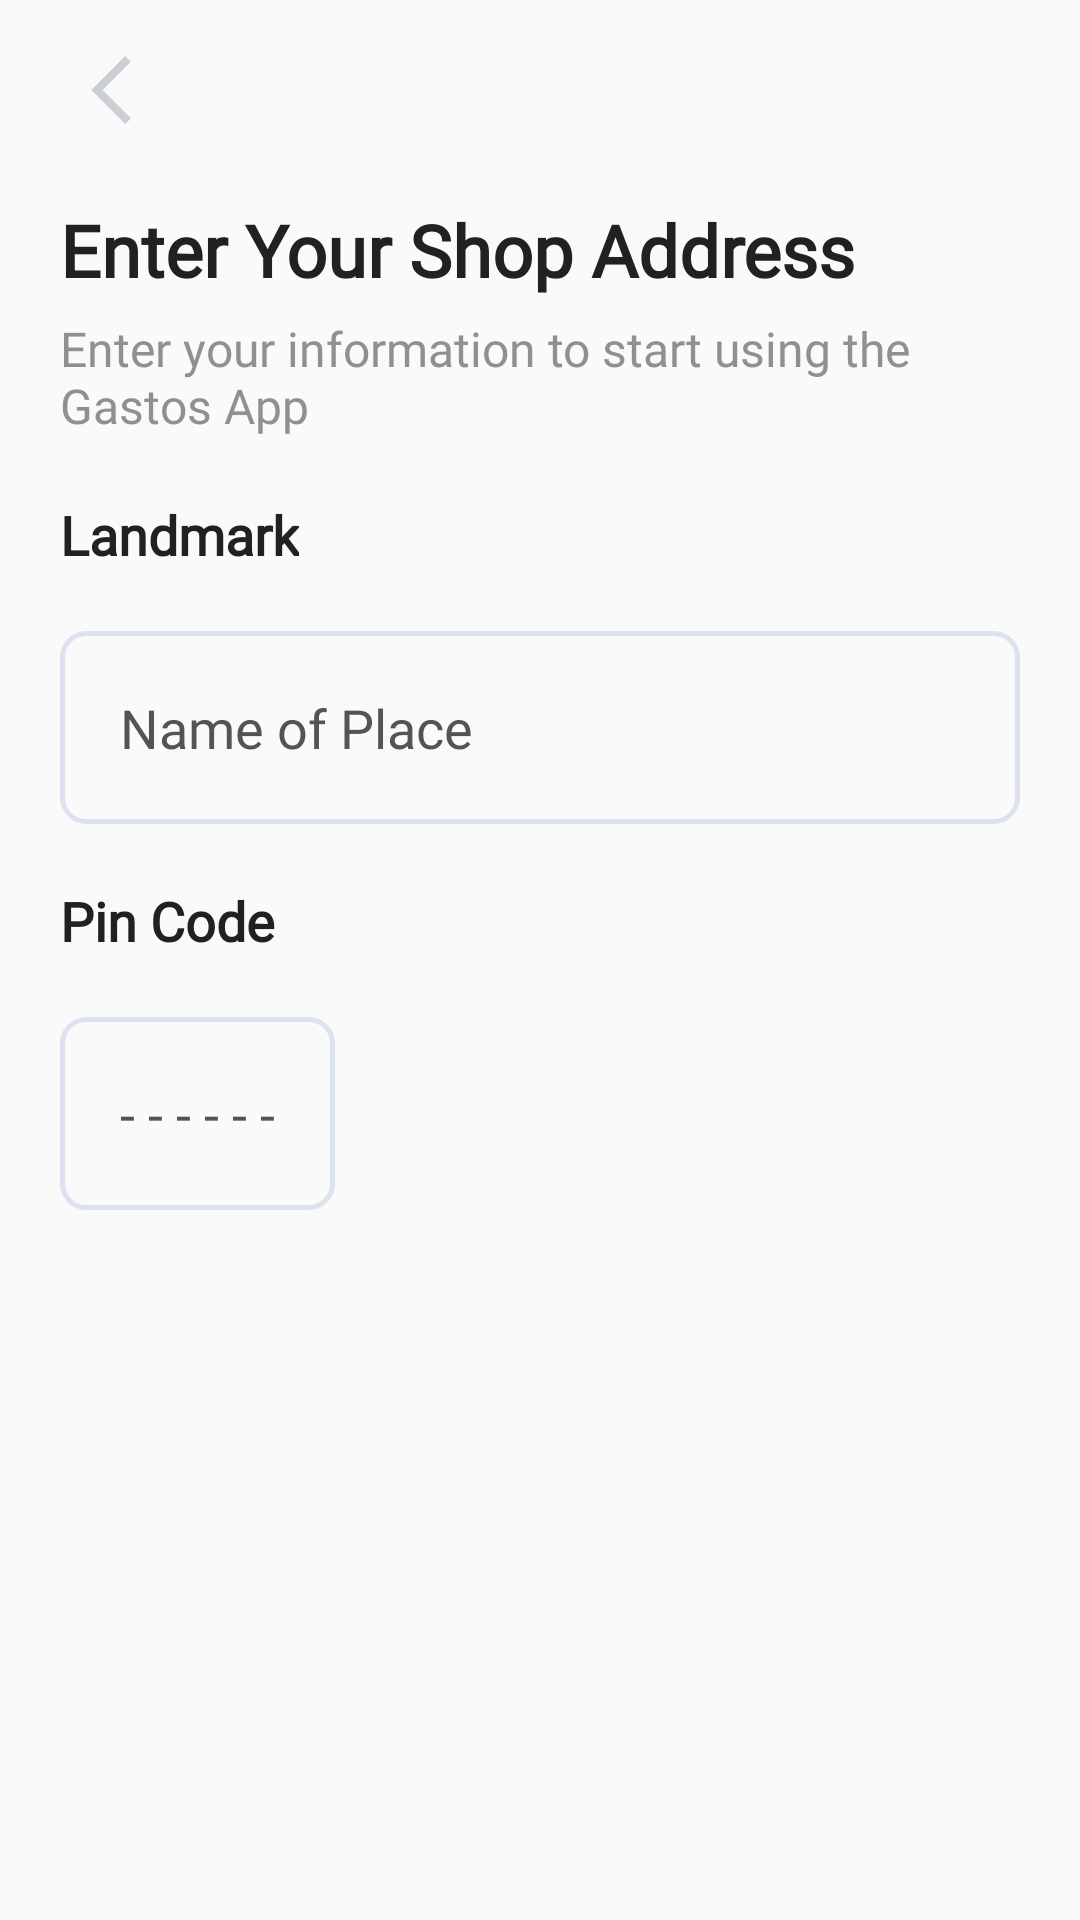

Screen size 1080px x 1920px. Icon name, then its box in pixels as (x1,y1,x2,y2):
back: (92,56,131,124)
